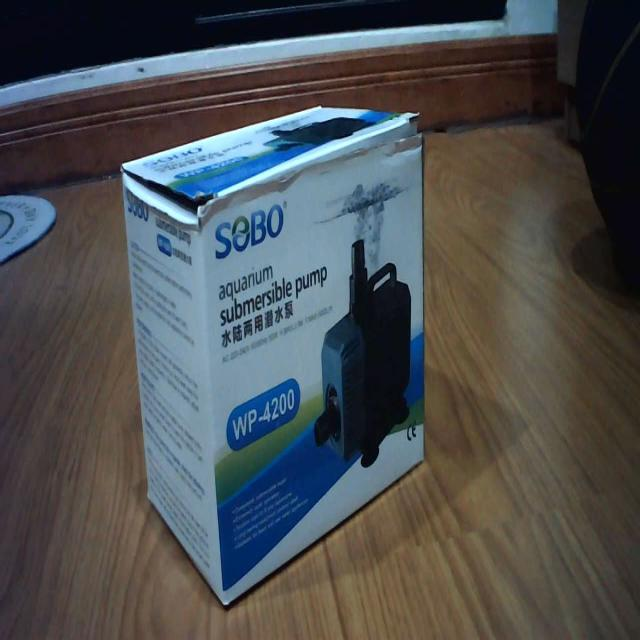SOBO_WP_4200: (115, 95, 443, 613)
